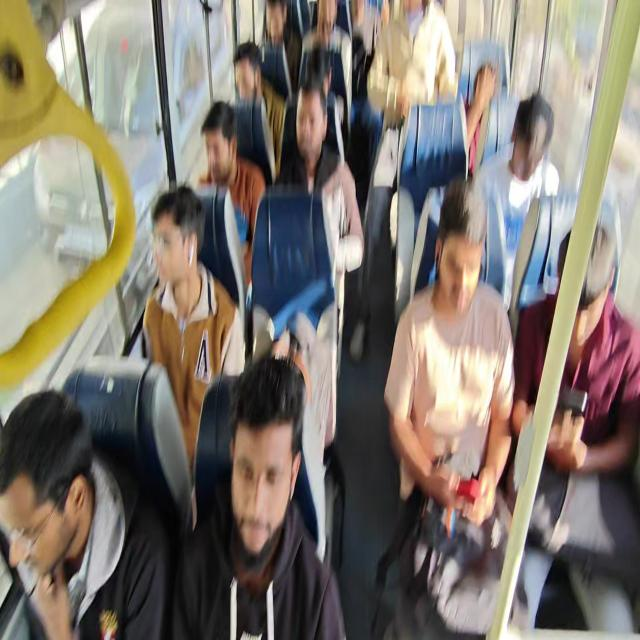person: (222, 383, 320, 571), (0, 393, 93, 569), (566, 252, 614, 354), (147, 200, 198, 277), (437, 228, 479, 320), (195, 99, 241, 178), (506, 105, 536, 184), (228, 52, 268, 107), (303, 52, 335, 102), (297, 90, 324, 149), (477, 59, 502, 119), (261, 0, 284, 44), (308, 0, 337, 34)
